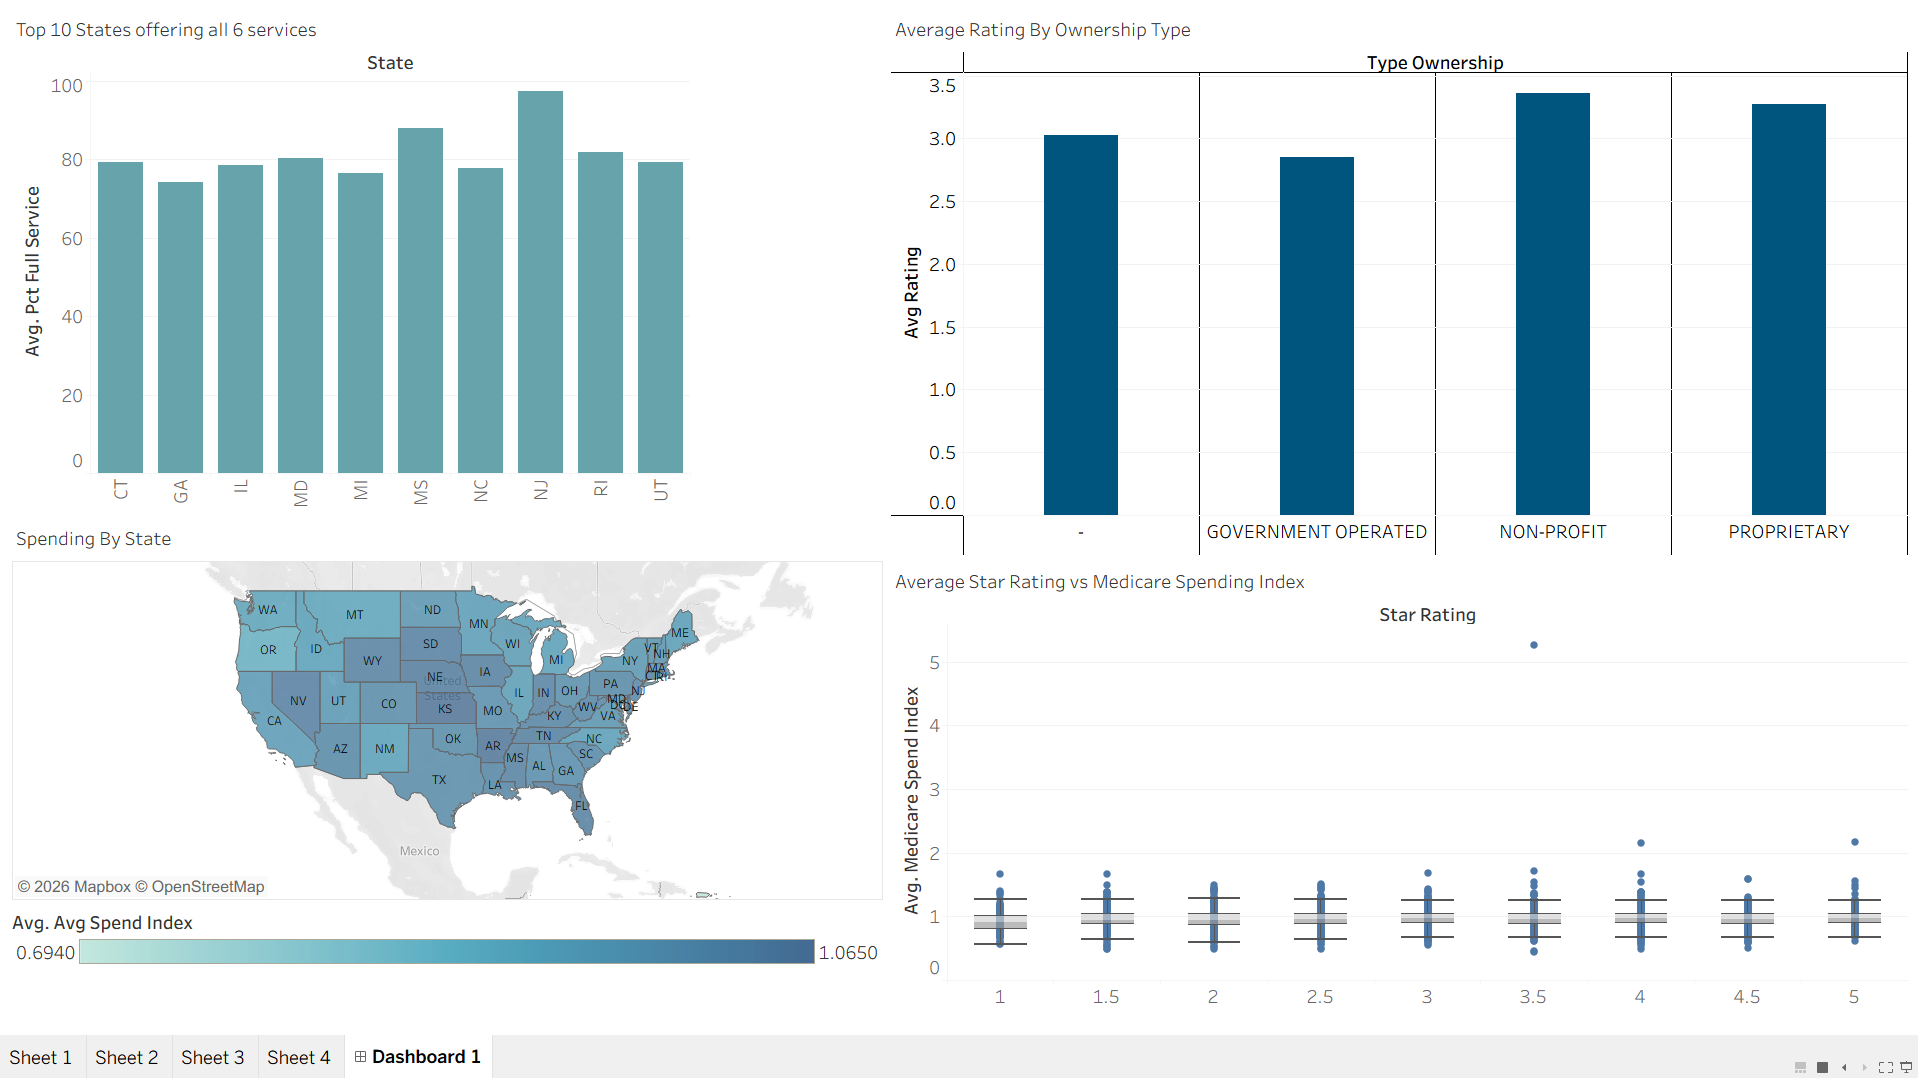

The page's visual inventory and layout, read from the dashboard file:
{"tool":"tableau","page":{"name":"Dashboard 1","canvas":[1000,1000],"units":"permille","ordinal":0},"visuals":[{"type":"worksheet","title":"Sheet 4","mark":"Automatic","rows":["pct_full_service"],"cols":["State"],"box":[7.1,12.5,455.1,487.5]},{"type":"worksheet","title":"Sheet 1","mark":"Automatic","rows":["avg_rating"],"cols":["Type_Ownership"],"box":[462.2,12.5,530.7,528.2]},{"type":"worksheet","title":"Sheet 3","mark":"Multipolygon","box":[7.1,499.9,455.1,370.8]},{"type":"worksheet","title":"Sheet 2","mark":"Circle","rows":["Medicare_Spend_Index"],"cols":["Star_Rating"],"box":[462.2,540.6,530.7,446.9]},{"type":"legend","title":"Sheet 3","param":"[federated.1yy7hp90gduqfb183gr2y1qnim9v].[avg:avg_spend_index:qk]","box":[7.1,870.7,455.1,116.9]}]}

Visuals, with their boxes on the dashboard's canvas, which has no fixed pixel size, in thousandths of its width and height (x1, y1, x2, y2). These are canvas units, not pixel positions in the 1918x1078 screenshot, which may show the page scaled, cropped or inside an application window:
"Sheet 4" worksheet: [7, 12, 462, 500]
"Sheet 1" worksheet: [462, 12, 993, 541]
"Sheet 3" worksheet (Multipolygon marks): [7, 500, 462, 871]
"Sheet 2" worksheet (Circle marks): [462, 541, 993, 988]
"Sheet 3" legend: [7, 871, 462, 988]
